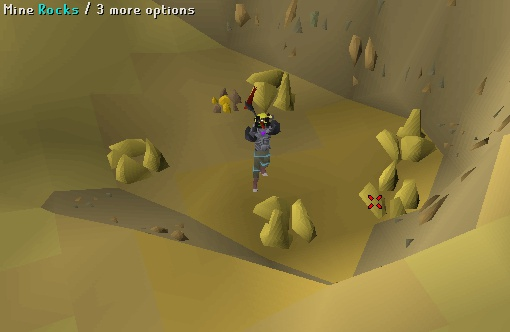gold: (246, 193, 327, 249), (99, 134, 175, 188), (359, 162, 424, 220), (245, 65, 303, 114)
